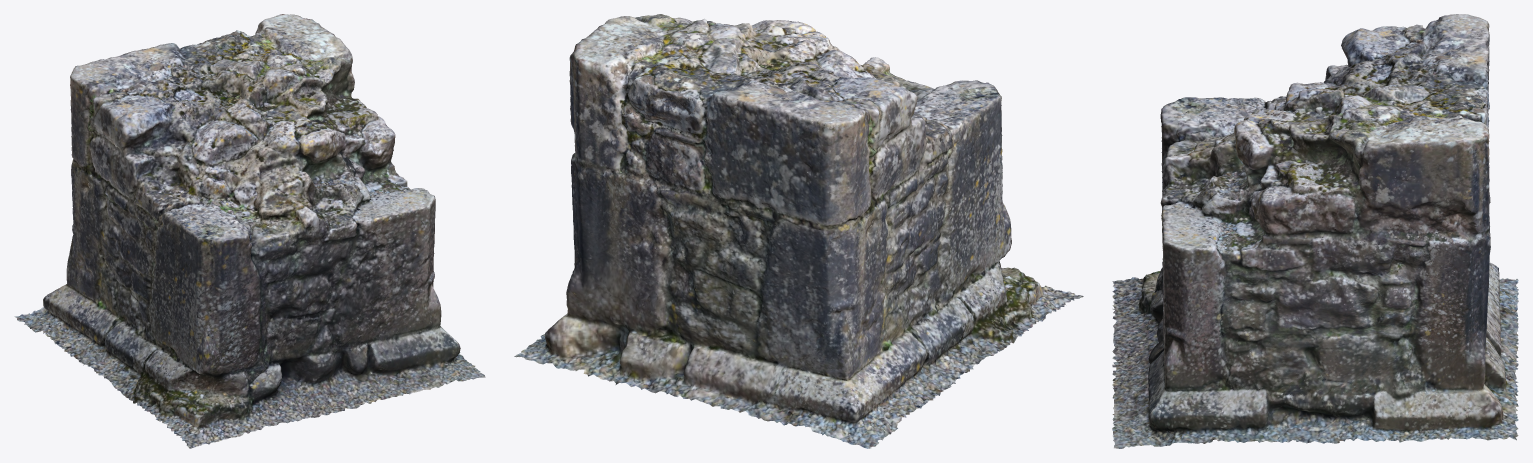
Rendered from BrokenStonePillar.fbx.
3 views of the same model, side by side, from view 1: azimuth 30°, elevation 25°; view 2: azimuth 150°, elevation 25°; view 3: azimuth 270°, elevation 25° (orthographic). The views are drawn at different scales.
Visible parts, largest first — view 1: Old Stone Pillar Ruin Photoscan; view 2: Old Stone Pillar Ruin Photoscan; view 3: Old Stone Pillar Ruin Photoscan.
Part boxes in pixels (x1,y1,x2,y2): Old Stone Pillar Ruin Photoscan: (14,14,485,448); Old Stone Pillar Ruin Photoscan: (514,14,1083,448); Old Stone Pillar Ruin Photoscan: (1112,14,1518,448).
Size of the model in its own units: 130 by 107 by 134.
1 material, 1 textured.
